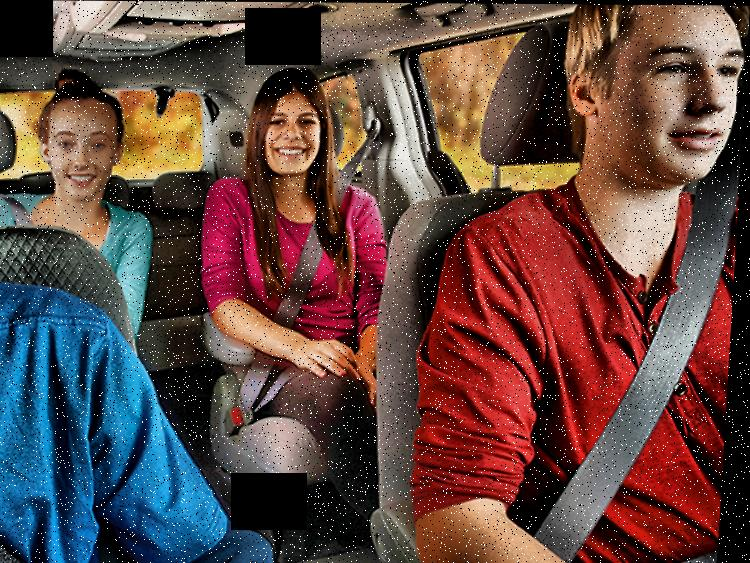seatbelt: (537, 128, 743, 549), (238, 113, 401, 403), (0, 184, 53, 226)
